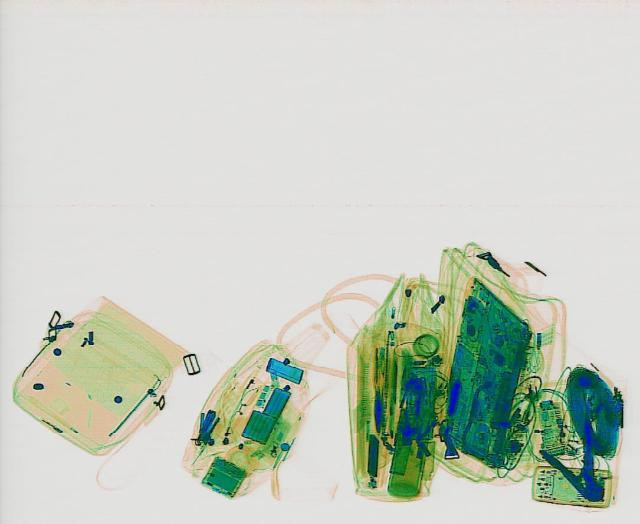Pliers: (529, 416, 627, 507)
